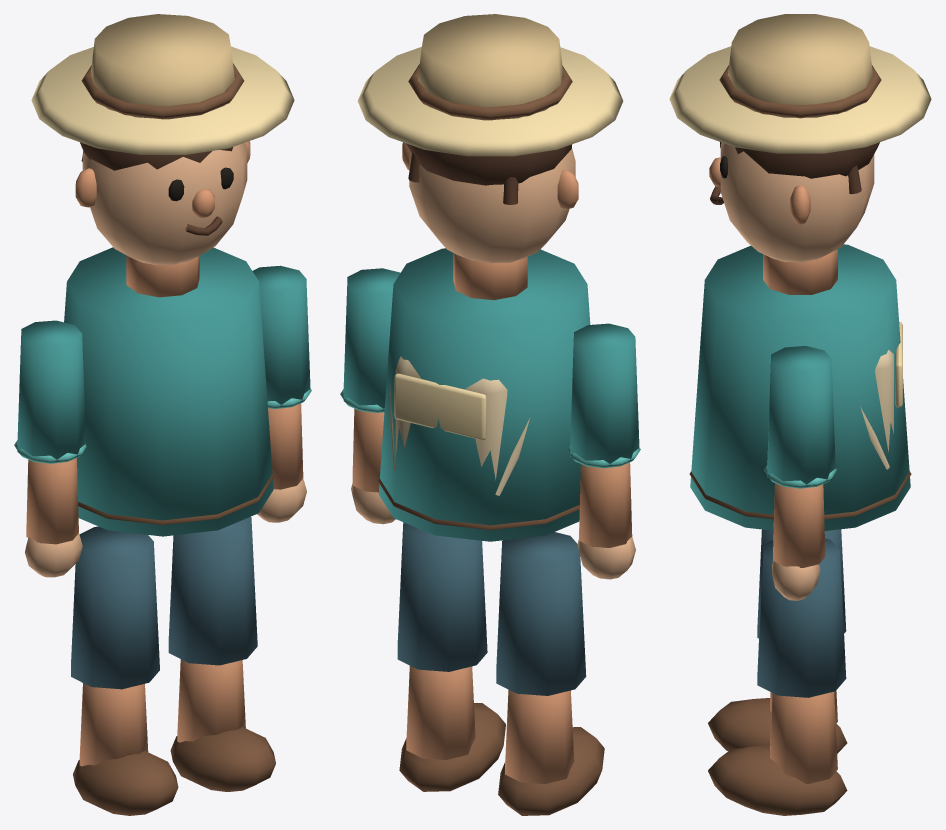
The model's file is tropical-avatar.glb.
3 renders of one model, left to right at view 1: azimuth 30°, elevation 25°; view 2: azimuth 150°, elevation 25°; view 3: azimuth 270°, elevation 25°, orthographic.
Visible parts, largest first — view 1: Avatar_Torso, Avatar_HatBrim, Avatar_Thigh_L, Avatar_Head, Avatar_Thigh_R, Avatar_HatCrown, Avatar_UpperArm_L, Avatar_UpperArm_R, Avatar_Boot_L, Avatar_Boot_R, Avatar_Calf_L, Avatar_Calf_R (+10 smaller); view 2: Avatar_Torso, Avatar_HatBrim, Avatar_Thigh_L, Avatar_Thigh_R, Avatar_HatCrown, Avatar_Head, Avatar_UpperArm_L, Avatar_UpperArm_R, Avatar_Calf_R, Avatar_Calf_L, Avatar_PackFlap, Avatar_Boot_R (+11 smaller); view 3: Avatar_Torso, Avatar_HatBrim, Avatar_HatCrown, Avatar_Head, Avatar_Thigh_R, Avatar_UpperArm_R, Avatar_Boot_R, Avatar_Calf_R, Avatar_Forearm_R, Avatar_Boot_L, Avatar_Hair, Avatar_Neck (+8 smaller).
Part boxes in pixels (x1,y1,x2,y2): Avatar_Torso: (64, 247, 273, 536); Avatar_HatBrim: (31, 46, 294, 154); Avatar_Thigh_L: (71, 526, 159, 689); Avatar_Head: (82, 142, 247, 265); Avatar_Thigh_R: (168, 517, 257, 665); Avatar_HatCrown: (91, 14, 234, 119); Avatar_UpperArm_L: (17, 320, 85, 461); Avatar_UpperArm_R: (252, 265, 310, 406); Avatar_Boot_L: (73, 751, 178, 815); Avatar_Boot_R: (170, 727, 275, 791); Avatar_Calf_L: (79, 683, 148, 766); Avatar_Calf_R: (177, 659, 245, 742); Avatar_Torso: (378, 248, 590, 541); Avatar_HatBrim: (357, 47, 623, 156); Avatar_Thigh_L: (496, 532, 586, 695); Avatar_Thigh_R: (397, 522, 487, 671); Avatar_HatCrown: (418, 14, 562, 120); Avatar_Head: (409, 148, 575, 263); Avatar_UpperArm_L: (570, 323, 639, 466); Avatar_UpperArm_R: (343, 268, 400, 410); Avatar_Calf_R: (406, 666, 475, 759); Avatar_Calf_L: (505, 689, 574, 783); Avatar_PackFlap: (394, 373, 486, 439); Avatar_Boot_R: (399, 703, 505, 791); Avatar_Torso: (690, 244, 910, 530); Avatar_HatBrim: (669, 46, 931, 153); Avatar_HatCrown: (728, 14, 872, 117); Avatar_Head: (720, 142, 874, 262); Avatar_Thigh_R: (757, 538, 846, 697); Avatar_UpperArm_R: (767, 346, 835, 486); Avatar_Boot_R: (708, 745, 847, 815); Avatar_Calf_R: (770, 691, 837, 783); Avatar_Forearm_R: (773, 483, 825, 567); Avatar_Boot_L: (708, 698, 847, 753); Avatar_Hair: (735, 142, 879, 178); Avatar_Neck: (763, 249, 837, 294).
Bounding box in the file's own units: 0.796 × 1.97 × 0.63.
